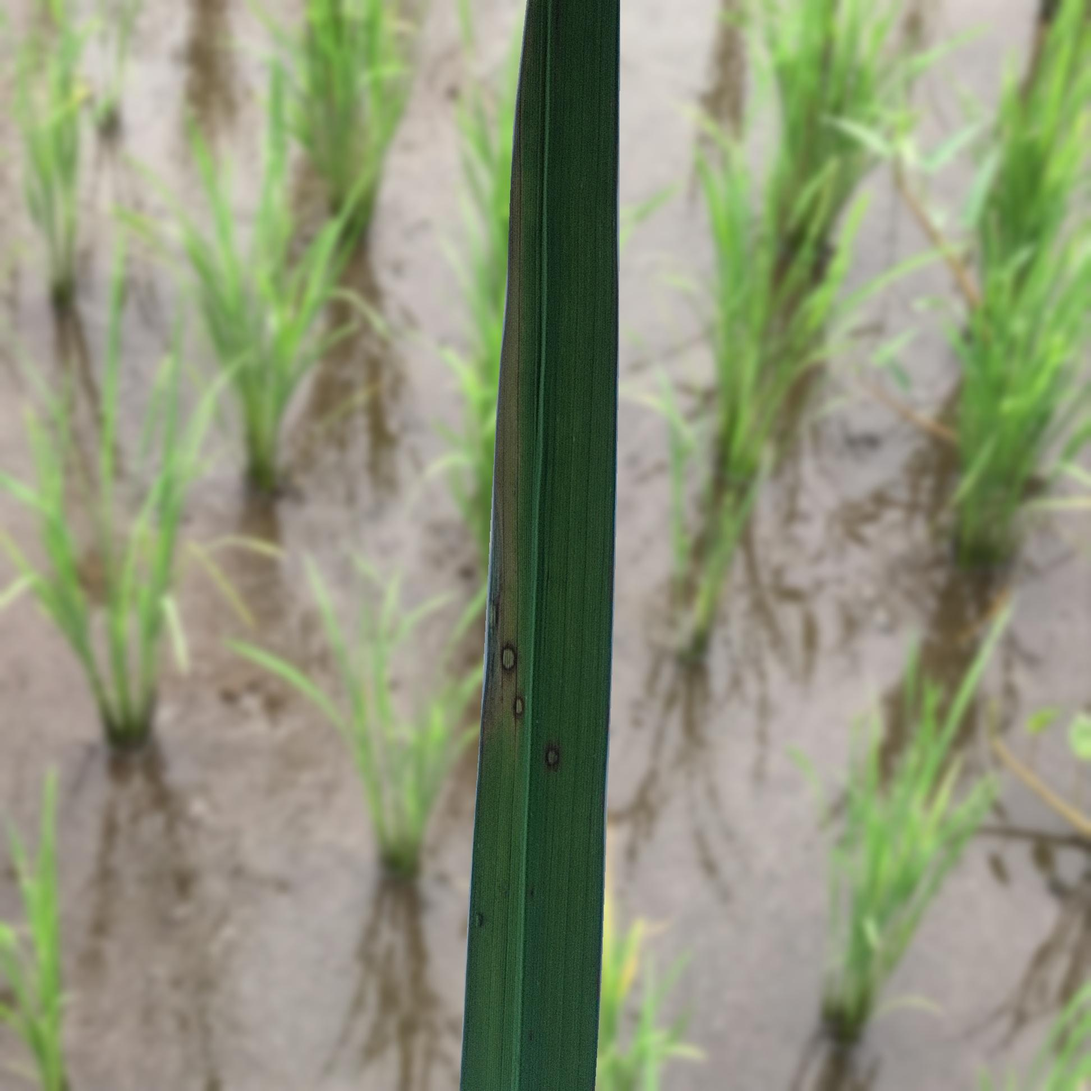LEAF BLAST: (501, 646, 515, 669), (488, 599, 498, 628), (547, 746, 559, 767), (514, 695, 524, 718)
